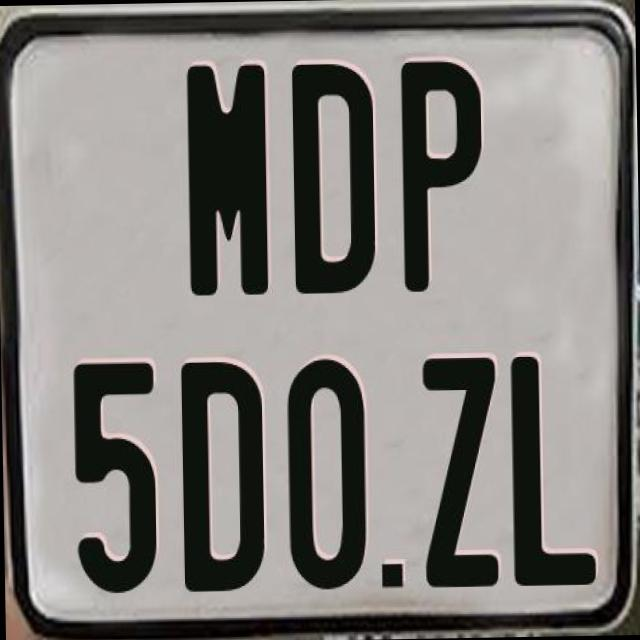0: (283, 355, 371, 591)
5: (70, 362, 161, 600)
D: (288, 58, 376, 292), (180, 359, 268, 591)
L: (506, 352, 594, 587)
M: (186, 60, 268, 293)
P: (398, 56, 481, 288)
Z: (419, 354, 499, 590)
